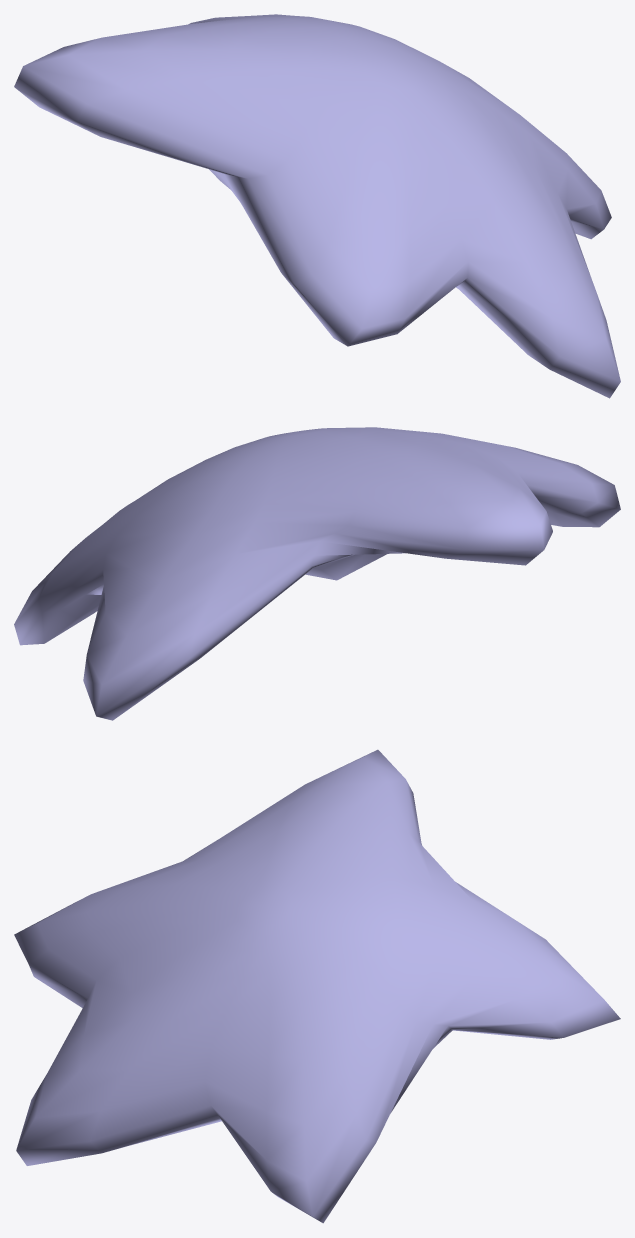
Rendered from AGStarfish.fbx.
The picture shows the model from 3 angles, top to bottom: view 1: azimuth 30°, elevation 25°; view 2: azimuth 150°, elevation 25°; view 3: azimuth 270°, elevation 25°; orthographic projection. The views are drawn at different scales.
Visible parts, largest first — view 1: Starfish2; view 2: Starfish2; view 3: Starfish2.
Boxes of the visible parts, left/top/right/bottom form: Starfish2: left=14, top=14, right=620, bottom=398; Starfish2: left=14, top=427, right=620, bottom=720; Starfish2: left=14, top=749, right=620, bottom=1223.
Bounding box in the file's own units: 1.56 × 0.7738 × 1.66.
